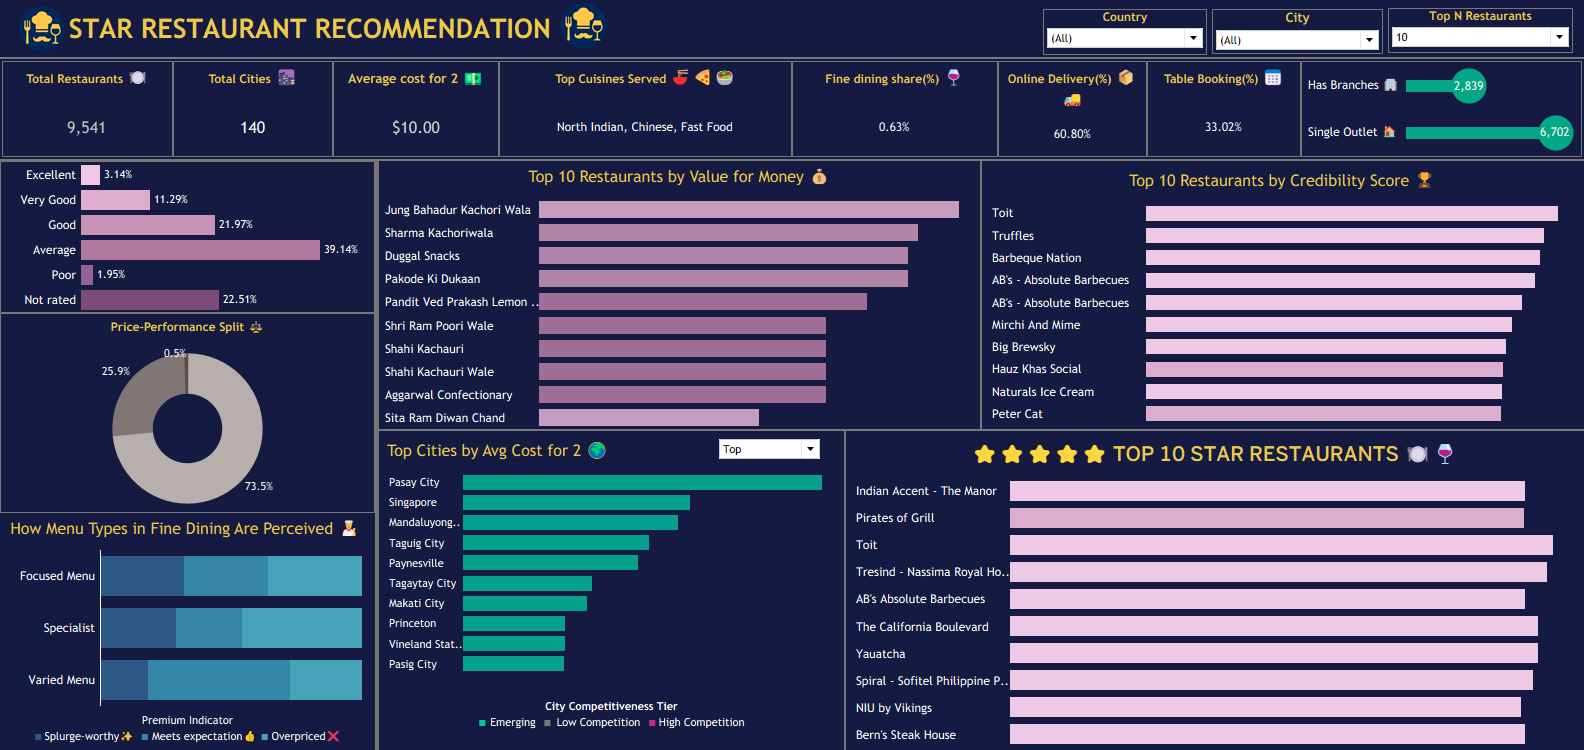

The page's visual inventory and layout, read from the dashboard file:
{"tool":"tableau","page":{"name":"Star Restaurant Dashboard","canvas":[1600,800],"ordinal":0},"visuals":[{"type":"image","param":"Image/ChatGPT Image Oct 6, 2025, 04_45_12 PM.png","box":[644,7,153,54]},{"type":"text","box":[8,8,1584,57]},{"type":"image","param":"Image/ChatGPT Image Oct 6, 2025, 04_45_12 PM.png","box":[32,10,101,53]},{"type":"parameter","param":"[Parameters].[Sort order  (copy 2)]","box":[1396,16,185,45]},{"type":"filter","title":"Top Restaurants by Value for Money","param":"[federated.08u6eap0x7ggmm18wdrm11q9mg2u].[none:Country:nk]","box":[1051,17,164,46]},{"type":"filter","title":"Top Restaurants by Value for Money","param":"[federated.08u6eap0x7ggmm18wdrm11q9mg2u].[none:City:nk]","box":[1220,17,171,45]},{"type":"blank","box":[8,65,1584,2]},{"type":"worksheet","title":"no of restaurants","mark":"Automatic","box":[10,69,171,96]},{"type":"worksheet","title":"cities","mark":"Automatic","box":[181,69,160,96]},{"type":"worksheet","title":"avg cost","mark":"Automatic","box":[341,69,166,96]},{"type":"worksheet","title":"Top cuisines","mark":"Text","rows":["Cuisine"],"box":[507,69,293,96]},{"type":"worksheet","title":"fine dining","mark":"Automatic","box":[800,69,206,96]},{"type":"worksheet","title":"online delivey","mark":"Automatic","box":[1006,69,149,96]},{"type":"worksheet","title":"table booking","mark":"Automatic","box":[1155,69,154,96]},{"type":"worksheet","title":"Restaurants with branches and single outlets","mark":"Bar","rows":["Calculation_1968354569128599607"],"cols":["Calculation_1968354567347859456","Calculation_1968354567347859456"],"box":[1309,69,281,96]},{"type":"blank","box":[8,167,1584,2]},{"type":"worksheet","title":"Restaurant Distribution by Rating Category","mark":"Bar","rows":["Rating text"],"cols":["Restaurant ID"],"box":[8,169,375,152]},{"type":"blank","box":[383,169,4,591]},{"type":"worksheet","title":"Top Restaurants by Value for Money","mark":"Automatic","rows":["Restaurant ID","Rating text","Restaurant Name"],"cols":["Calculation_1968354567350018049"],"box":[387,169,601.5,268]},{"type":"blank","box":[988.5,169,2,268]},{"type":"worksheet","title":"Top Restaurants by Credibility score","mark":"Bar","rows":["Restaurant ID","Restaurant Name","Rating text"],"cols":["Calculation_1968354567350661122"],"box":[990.5,169,601.5,268]},{"type":"worksheet","title":"price performance","mark":"Pie","cols":["Calculation_1982428322130231350","Calculation_1982428322130231350"],"box":[8,321,375,200]},{"type":"blank","box":[387,437,1205,2]},{"type":"worksheet","title":"top 10 cities by avg cost for 2","mark":"Bar","rows":["City","Calculation_1968354567354433545"],"cols":["Calculation_535365465157447686"],"box":[387,439,465,247]},{"type":"blank","box":[852,439,2,321]},{"type":"worksheet","title":"STAR REST","mark":"Automatic","rows":["Restaurant ID","Restaurant Name","Rating text"],"cols":["Star_Score"],"box":[854,439,738,321]},{"type":"parameter","param":"[Parameters].[Star Score Parameter]","box":[724,444,107,29]},{"type":"worksheet","title":"Fine Dining Restaurants: Price–Performance vs. Premium Positioning","mark":"Bar","rows":["Calculation_1968354567351439364"],"box":[8,521,375,193]},{"type":"text","box":[387,686,465,74]},{"type":"text","box":[8,714,375,46]}]}

Visuals, with their boxes on the page's 1600x800 design canvas (x1, y1, x2, y2). These are canvas units, not pixel positions in the 1584x750 screenshot, which may show the page scaled, cropped or inside an application window:
image: x1=644 y1=7 x2=797 y2=61
text: x1=8 y1=8 x2=1592 y2=65
image: x1=32 y1=10 x2=133 y2=63
parameter: x1=1396 y1=16 x2=1581 y2=61
"Top Restaurants by Value for Money" filter: x1=1051 y1=17 x2=1215 y2=63
"Top Restaurants by Value for Money" filter: x1=1220 y1=17 x2=1391 y2=62
blank: x1=8 y1=65 x2=1592 y2=67
"no of restaurants" worksheet: x1=10 y1=69 x2=181 y2=165
"cities" worksheet: x1=181 y1=69 x2=341 y2=165
"avg cost" worksheet: x1=341 y1=69 x2=507 y2=165
"Top cuisines" worksheet (Text marks): x1=507 y1=69 x2=800 y2=165
"fine dining" worksheet: x1=800 y1=69 x2=1006 y2=165
"online delivey" worksheet: x1=1006 y1=69 x2=1155 y2=165
"table booking" worksheet: x1=1155 y1=69 x2=1309 y2=165
"Restaurants with branches and single outlets" worksheet (Bar marks): x1=1309 y1=69 x2=1590 y2=165
blank: x1=8 y1=167 x2=1592 y2=169
"Restaurant Distribution by Rating Category" worksheet (Bar marks): x1=8 y1=169 x2=383 y2=321
blank: x1=383 y1=169 x2=387 y2=760
"Top Restaurants by Value for Money" worksheet: x1=387 y1=169 x2=988 y2=437
blank: x1=988 y1=169 x2=990 y2=437
"Top Restaurants by Credibility score" worksheet (Bar marks): x1=990 y1=169 x2=1592 y2=437
"price performance" worksheet (Pie marks): x1=8 y1=321 x2=383 y2=521
blank: x1=387 y1=437 x2=1592 y2=439
"top 10 cities by avg cost for 2" worksheet (Bar marks): x1=387 y1=439 x2=852 y2=686
blank: x1=852 y1=439 x2=854 y2=760
"STAR REST" worksheet: x1=854 y1=439 x2=1592 y2=760
parameter: x1=724 y1=444 x2=831 y2=473
"Fine Dining Restaurants: Price–Performance vs. Premium Positioning" worksheet (Bar marks): x1=8 y1=521 x2=383 y2=714
text: x1=387 y1=686 x2=852 y2=760
text: x1=8 y1=714 x2=383 y2=760
